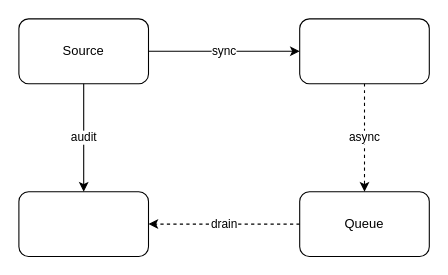
This 448x275 diagram has some shape labels left out. Each missing label, with the box of its shape:
Sink: (18, 191, 148, 256)
Worker: (299, 18, 429, 84)
